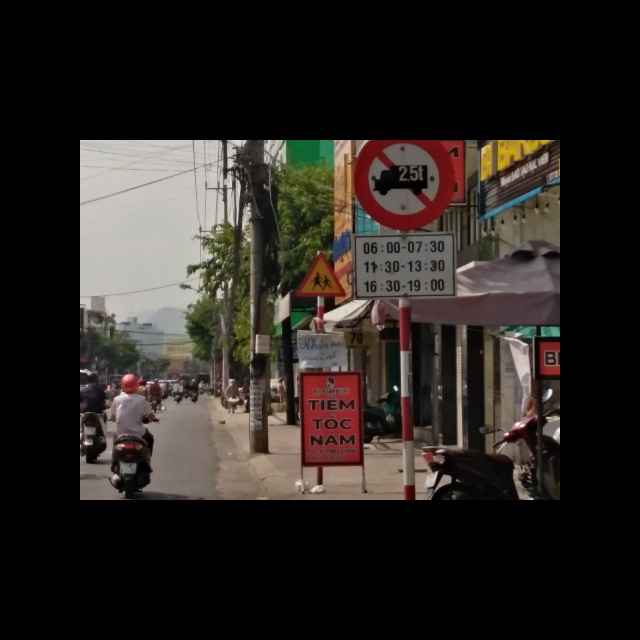Cấm xe tải: (350, 140, 458, 233)
Trẻ em ngang qua: (294, 251, 347, 297)
